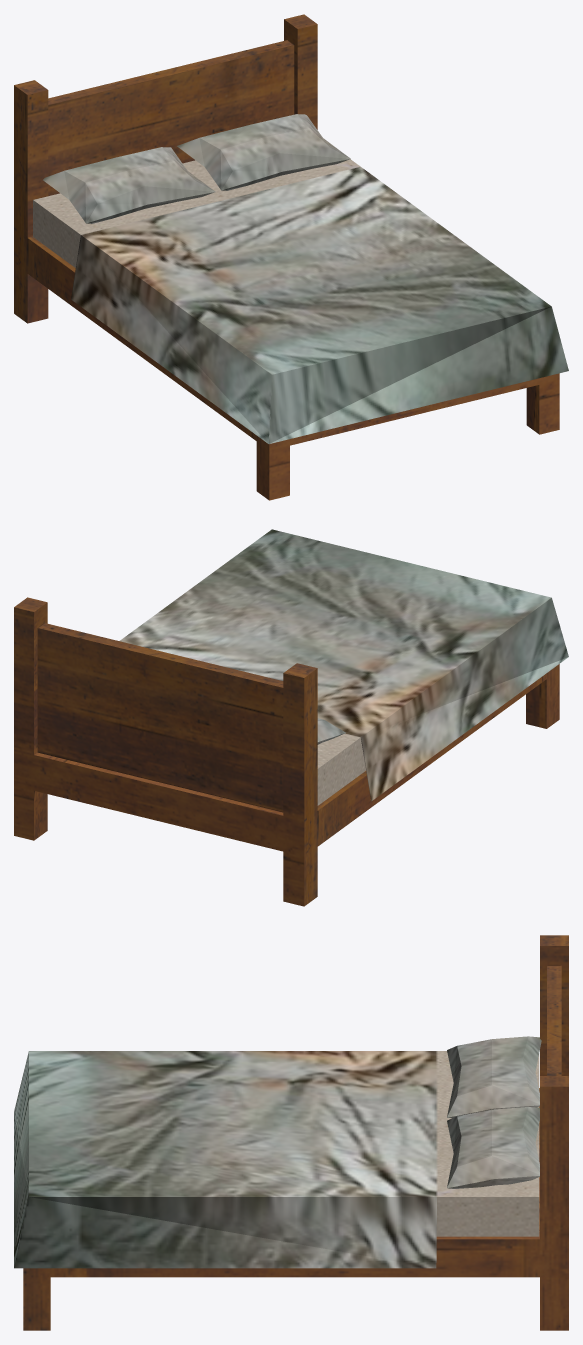
The model's file is cama_d.glb.
3 views of the same model, one above another, from view 1: azimuth 30°, elevation 25°; view 2: azimuth 150°, elevation 25°; view 3: azimuth 270°, elevation 25° (orthographic). The views are drawn at different scales.
Parts seen in each view (by area): view 1: cama_d; view 2: cama_d; view 3: cama_d.
Boxes of the visible parts, box(x1,y1,x2,y2) form: cama_d: box(14, 14, 568, 500); cama_d: box(14, 529, 568, 906); cama_d: box(14, 935, 568, 1330).
Bounding box in the file's own units: 1.67 × 1.22 × 2.5.
1 material, 1 textured.
